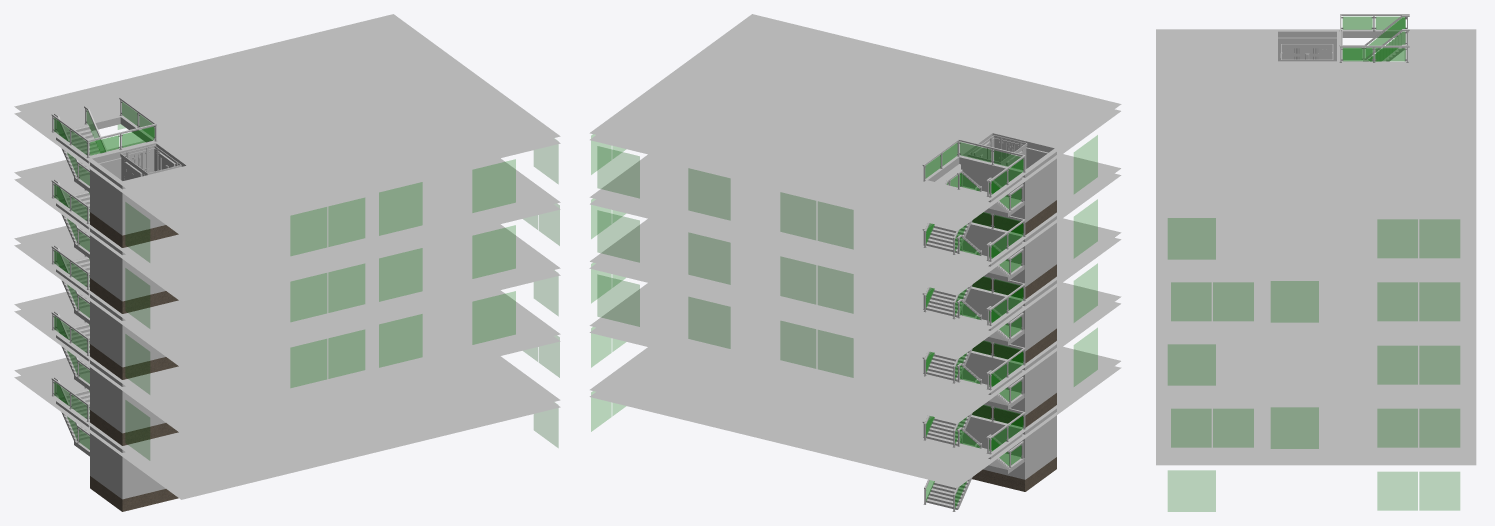
File: SM_Building23_Interior02.fbx
3 views of the same model, side by side, from view 1: azimuth 30°, elevation 25°; view 2: azimuth 150°, elevation 25°; view 3: azimuth 270°, elevation 25° (orthographic). The views are drawn at different scales.
Visible parts, largest first — view 1: SM_Building_23_Interior02; view 2: SM_Building_23_Interior02; view 3: SM_Building_23_Interior02.
Boxes of the visible parts, bbox=[...] form: SM_Building_23_Interior02: bbox=[14, 14, 560, 511]; SM_Building_23_Interior02: bbox=[589, 14, 1121, 511]; SM_Building_23_Interior02: bbox=[1156, 14, 1476, 511].
Size of the model in its own units: 2504 by 2132 by 1922.
